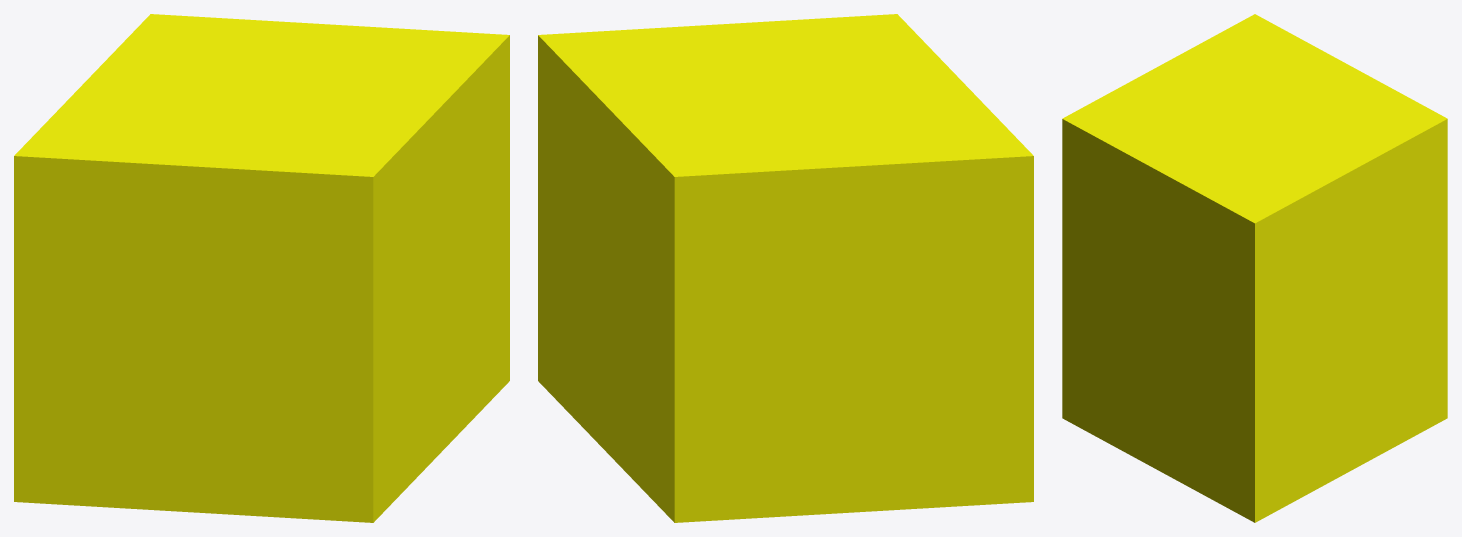
3 views of the same model, side by side, from view 1: azimuth 30°, elevation 25°; view 2: azimuth 150°, elevation 25°; view 3: azimuth 270°, elevation 25° (orthographic). The views are drawn at different scales.
Visible parts, largest first — view 1: node0; view 2: node0; view 3: node0.
Part boxes in pixels (x1,y1,x2,y2): node0: (14, 14, 509, 522); node0: (538, 14, 1033, 522); node0: (1062, 14, 1447, 522).
Bounding box in the file's own units: 0.09 × 0.07 × 0.06.
